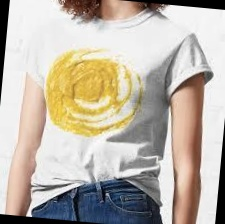mustard: (44, 87, 123, 136), (58, 61, 114, 104), (51, 45, 98, 90), (109, 65, 140, 132)
